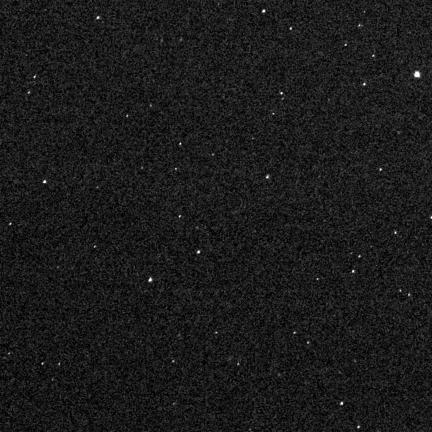blob: (414, 71, 420, 78), (262, 9, 266, 14), (197, 250, 201, 254), (363, 83, 367, 87), (43, 180, 47, 184), (266, 175, 269, 179), (394, 231, 397, 235), (179, 215, 182, 219), (341, 402, 344, 406), (149, 278, 152, 282), (380, 168, 383, 172), (290, 27, 293, 31), (179, 143, 182, 146)
